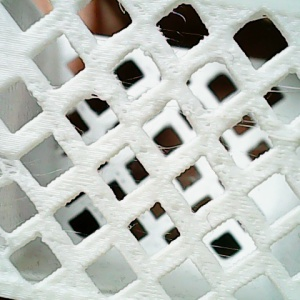3dpstringing: (155, 11, 191, 41), (202, 243, 253, 262), (26, 168, 71, 186), (117, 77, 148, 102), (106, 3, 139, 22), (69, 123, 113, 137), (236, 118, 267, 136), (266, 82, 300, 98), (153, 144, 183, 157), (82, 91, 109, 104), (204, 212, 215, 236), (162, 103, 188, 112)
